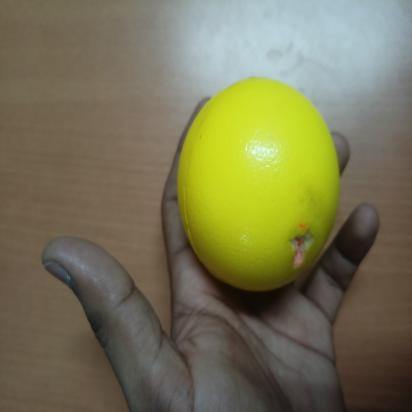Yellowball: (174, 72, 344, 298)
